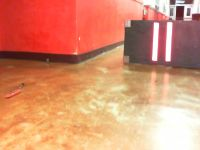switch: (152, 22, 159, 62), (165, 22, 172, 62)
